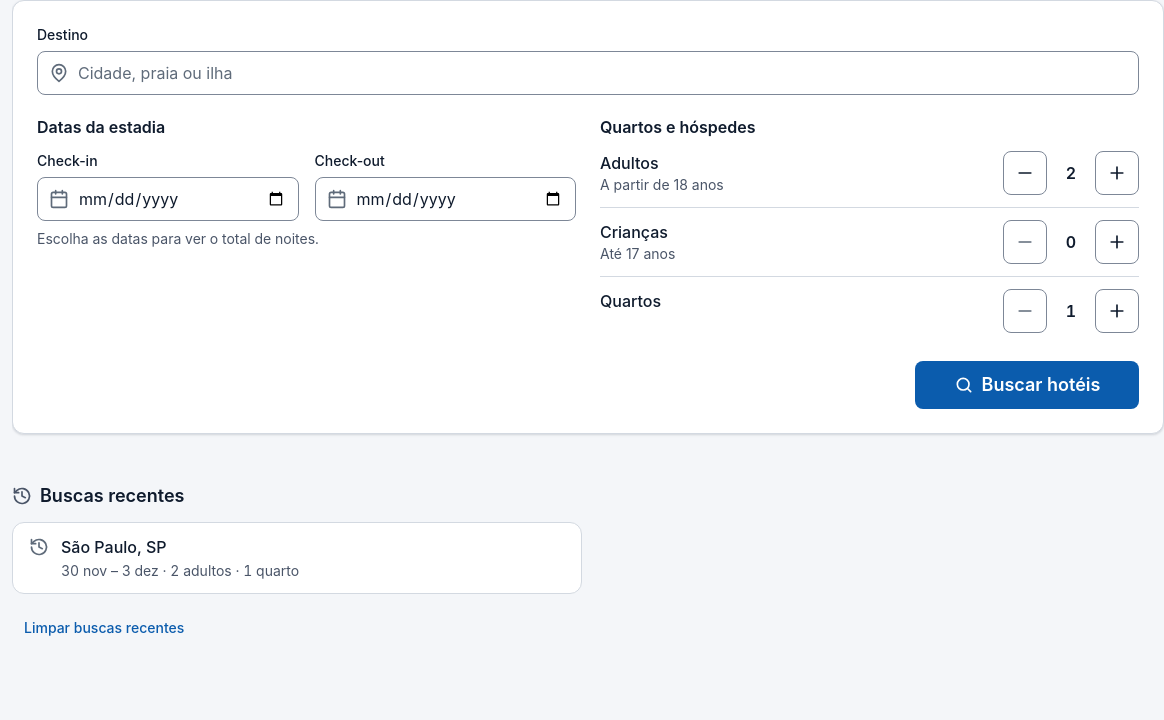
Scenario: RecentSearches › 'Limpar buscas recentes' esvazia lista e storage, foca o botão de buscar e avisa
Click the button "Limpar buscas recentes". click: x=104, y=628
box: [12,606,196,650]
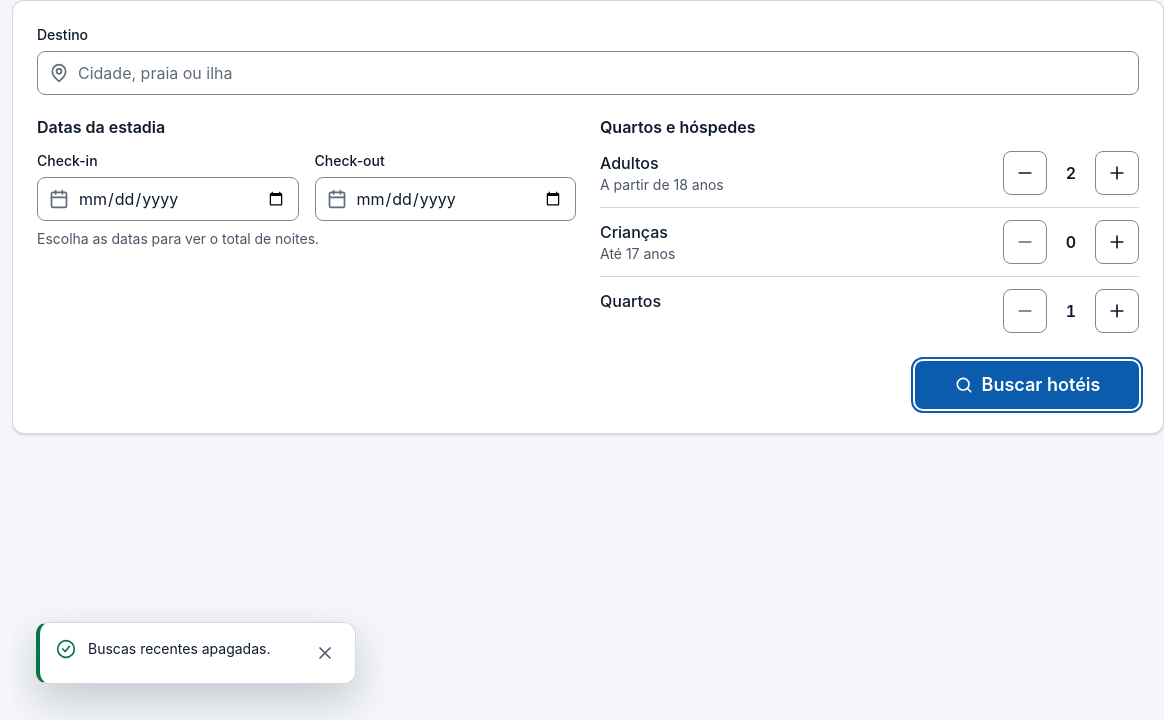
Expected: the text "Buscas recentes apagadas." is shown, [88,639,270,659]
